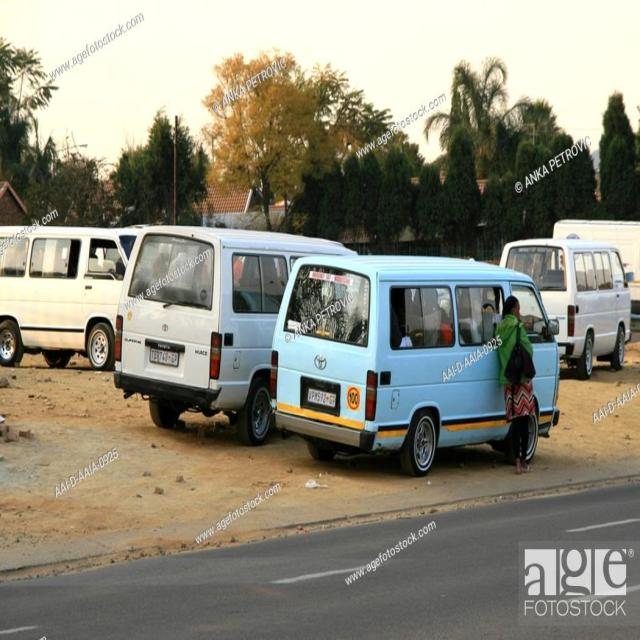MiniBus taxi: (269, 244, 433, 479), (109, 216, 271, 444)
